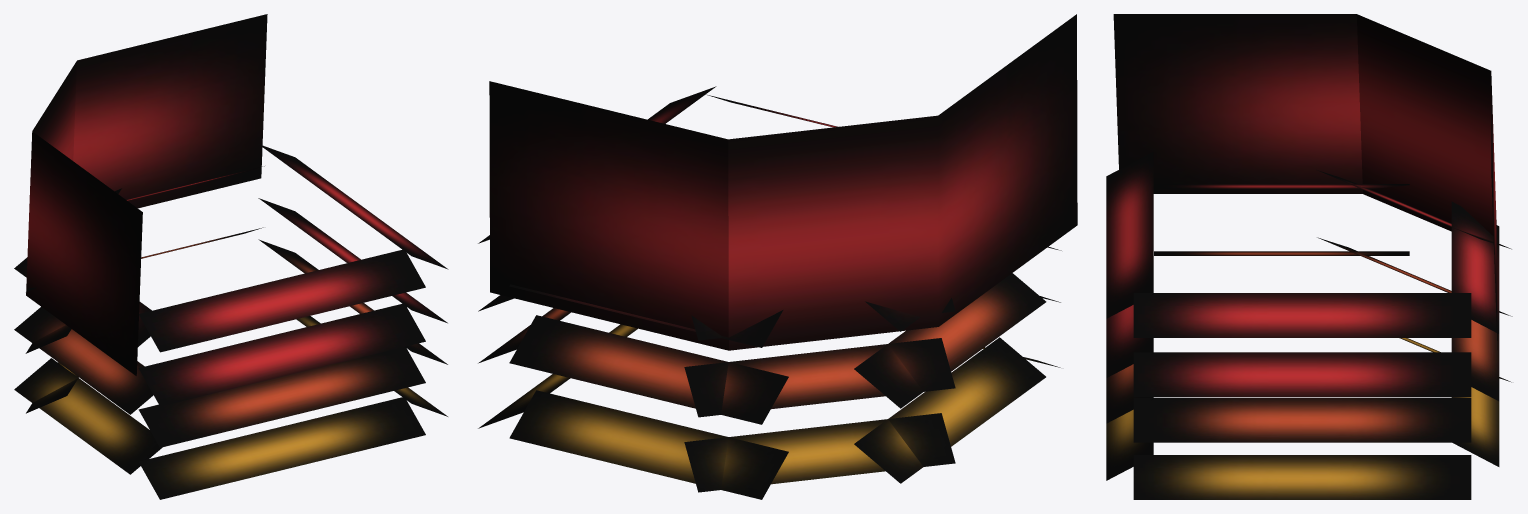
The model's file is buildlight02.FBX.
3 views of the same model, side by side, from view 1: azimuth 30°, elevation 25°; view 2: azimuth 150°, elevation 25°; view 3: azimuth 270°, elevation 25° (orthographic). The views are drawn at different scales.
Visible parts, largest first — view 1: buildlight02; view 2: buildlight02; view 3: buildlight02.
Part boxes in pixels (box(x1,y1,x2,y2)): buildlight02: box(14, 14, 448, 499); buildlight02: box(478, 14, 1077, 499); buildlight02: box(1106, 14, 1512, 499).
Bounding box in the file's own units: 1.22 × 1.21 × 1.04.
1 material, 1 textured.
